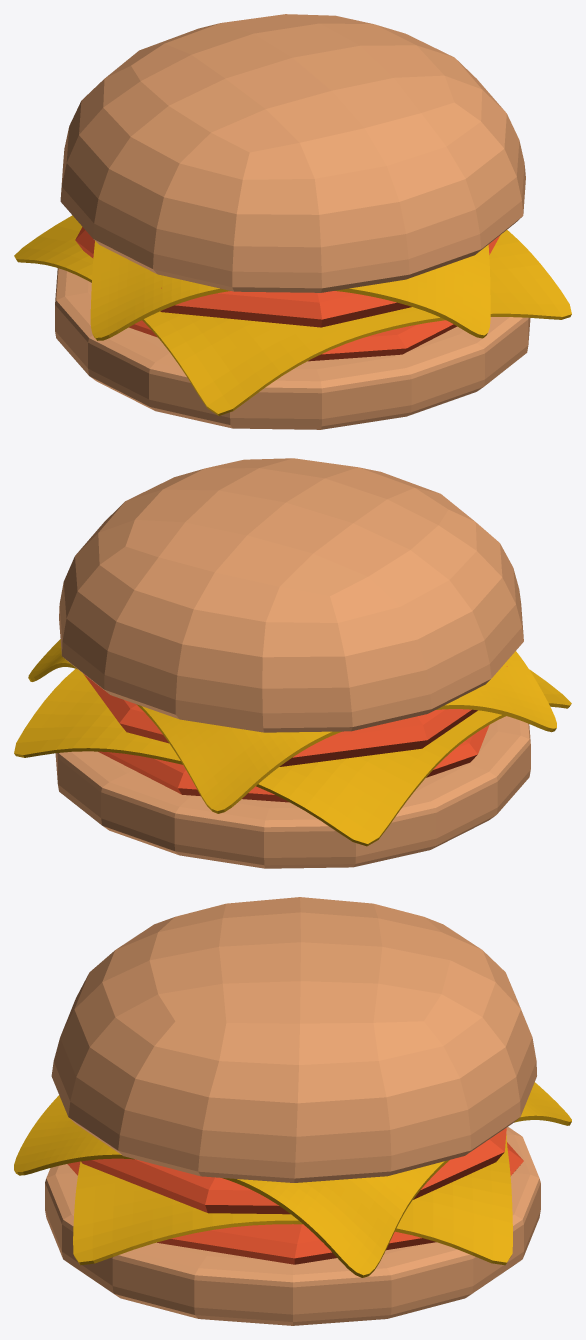
The model's file is hamburger.glb.
The picture shows the model from 3 angles, top to bottom: view 1: azimuth 30°, elevation 25°; view 2: azimuth 150°, elevation 25°; view 3: azimuth 270°, elevation 25°; orthographic projection. The views are drawn at different scales.
Visible parts, largest first — view 1: Cube.002, Cube, Plane, Plane.001, Cube.003, Cube.001; view 2: Cube.002, Cube, Plane, Plane.001, Cube.003, Cube.001; view 3: Cube.002, Cube, Plane, Plane.001, Cube.003, Cube.001.
Part boxes in pixels (x1=…): Cube.002: x1=60, y1=14, x2=525, y2=292; Cube: x1=55, y1=268, x2=530, y2=429; Plane: x1=14, y1=215, x2=571, y2=415; Plane.001: x1=90, y1=241, x2=490, y2=340; Cube.003: x1=75, y1=227, x2=500, y2=327; Cube.001: x1=129, y1=320, x2=456, y2=361; Cube.002: x1=59, y1=458, x2=523, y2=732; Cube: x1=55, y1=716, x2=530, y2=868; Plane: x1=14, y1=669, x2=571, y2=846; Plane.001: x1=28, y1=639, x2=556, y2=813; Cube.003: x1=83, y1=666, x2=507, y2=766; Cube.001: x1=98, y1=725, x2=489, y2=802; Cube.002: x1=51, y1=897, x2=536, y2=1182; Cube: x1=45, y1=1127, x2=540, y2=1325; Plane: x1=73, y1=1134, x2=512, y2=1265; Plane.001: x1=14, y1=1082, x2=571, y2=1277; Cube.003: x1=81, y1=1128, x2=506, y2=1214; Cube.001: x1=67, y1=1142, x2=523, y2=1264.
Bounding box in the file's own units: 2.06 × 1.23 × 2.06.
